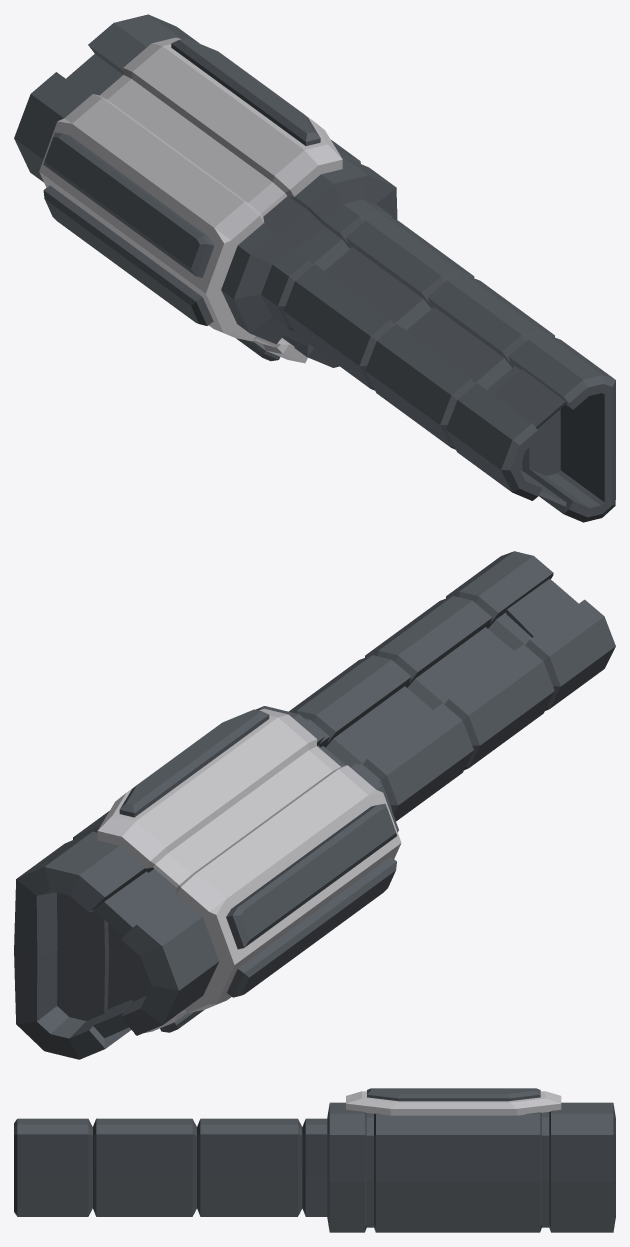
File: Fighter_10_Thruster_Right.fbx
The picture shows the model from 3 angles, top to bottom: view 1: azimuth 30°, elevation 25°; view 2: azimuth 150°, elevation 25°; view 3: azimuth 270°, elevation 25°; orthographic projection. The views are drawn at different scales.
Visible parts, largest first — view 1: Fighter_10_Thruster_Right; view 2: Fighter_10_Thruster_Right; view 3: Fighter_10_Thruster_Right.
Boxes of the visible parts, <box> form: Fighter_10_Thruster_Right: <box>14,14,615,522</box>; Fighter_10_Thruster_Right: <box>14,551,615,1059</box>; Fighter_10_Thruster_Right: <box>14,1088,615,1232</box>.
Size of the model in its own units: 311 by 362 by 1360.
Materials: 2 (2 with a texture image).
